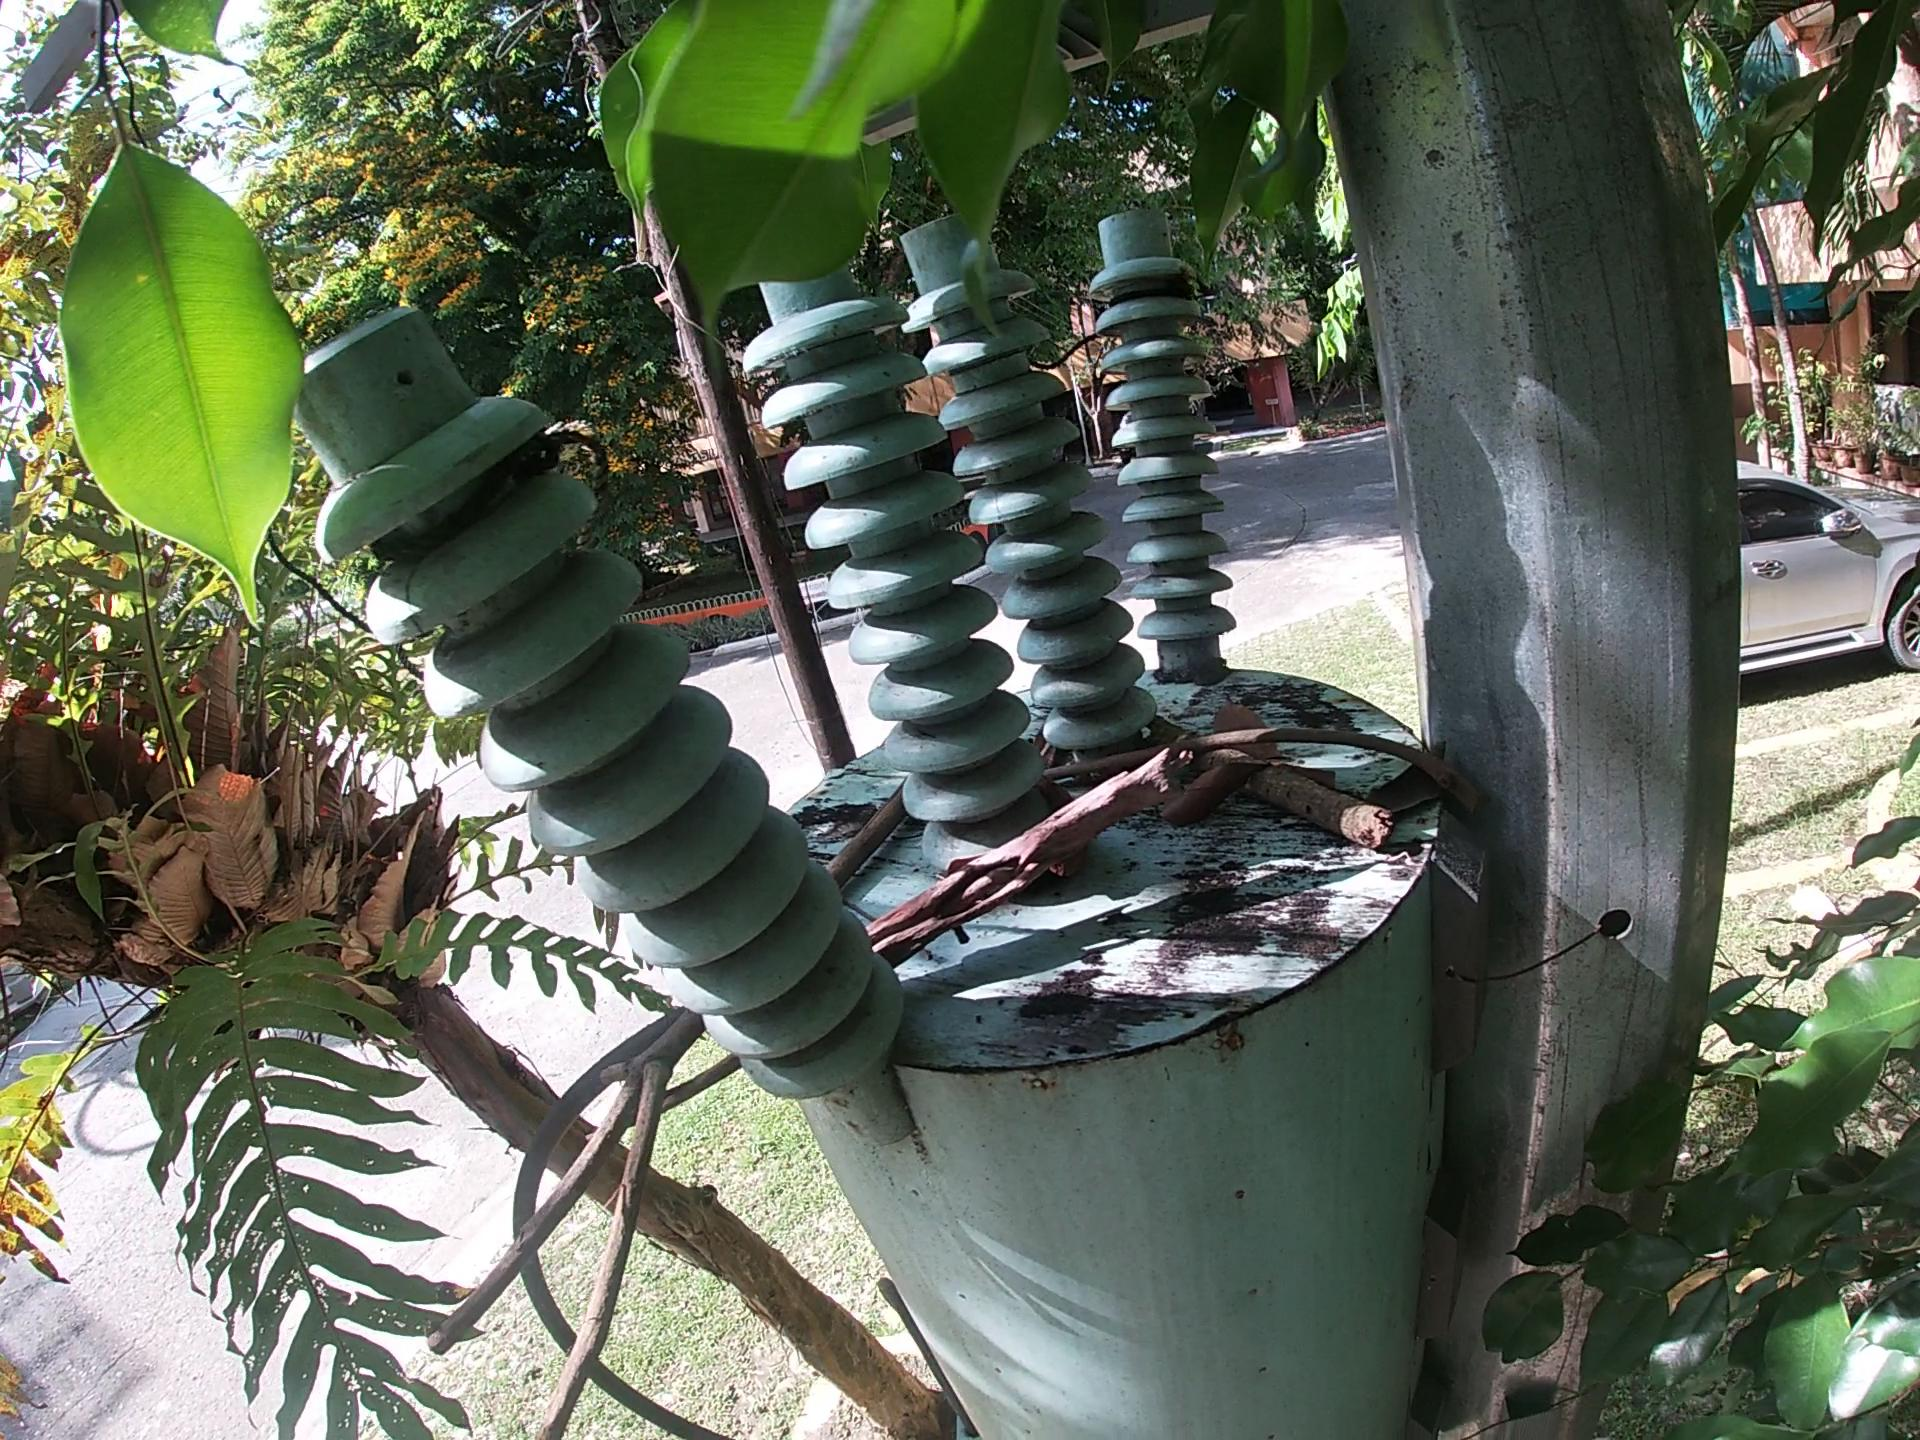leaf: (1169, 753, 1268, 817), (1215, 705, 1285, 753)
mahogany fruit: (1036, 731, 1073, 761)
tree branch: (416, 1010, 711, 1440), (871, 740, 1200, 950), (1160, 715, 1398, 850), (1030, 728, 1485, 788), (816, 771, 928, 892)
